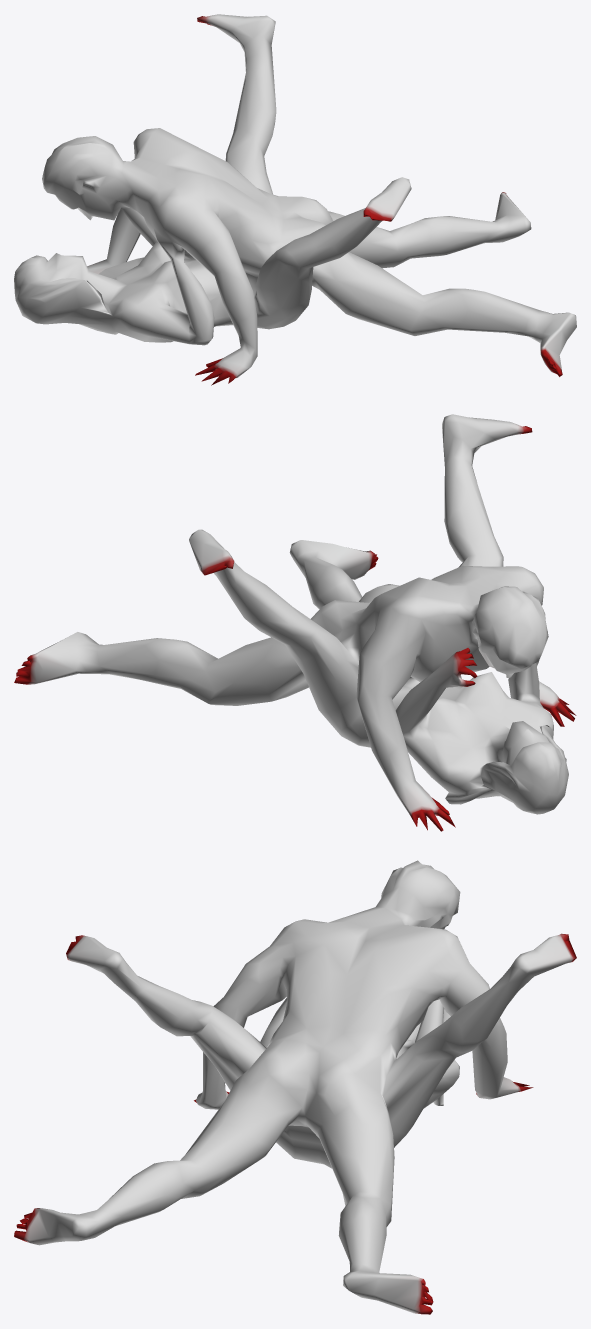
File: position5_low.fbx
3 renders of one model, top to bottom at view 1: azimuth 30°, elevation 25°; view 2: azimuth 150°, elevation 25°; view 3: azimuth 270°, elevation 25°, orthographic. The views are drawn at different scales.
Visible parts, largest first — view 1: hair; view 2: hair; view 3: hair.
Boxes of the visible parts, x1,y1,x2,y2 form: hair: [14, 14, 576, 385]; hair: [14, 414, 576, 831]; hair: [14, 860, 576, 1314].
Size of the model in its own units: 0.7137 by 0.3162 by 0.6251.
